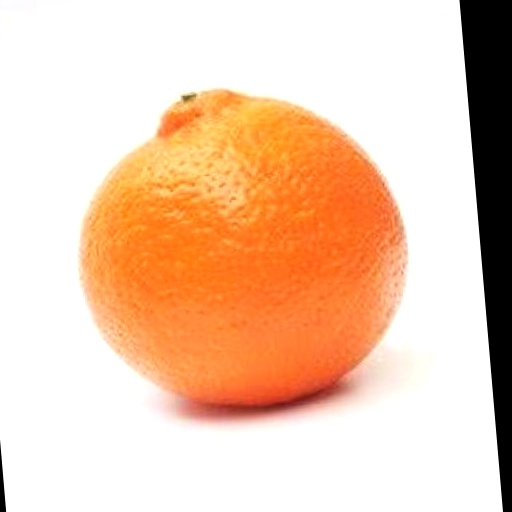fruit: (80, 90, 405, 405)
